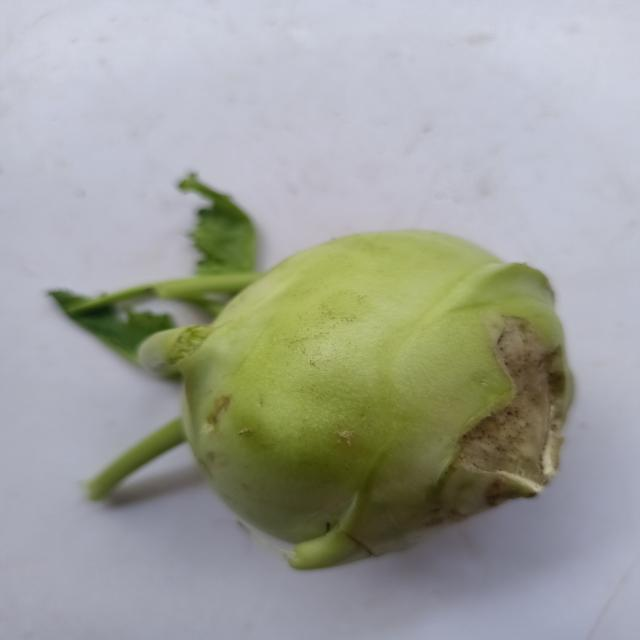Turnip: (34, 146, 640, 570)
